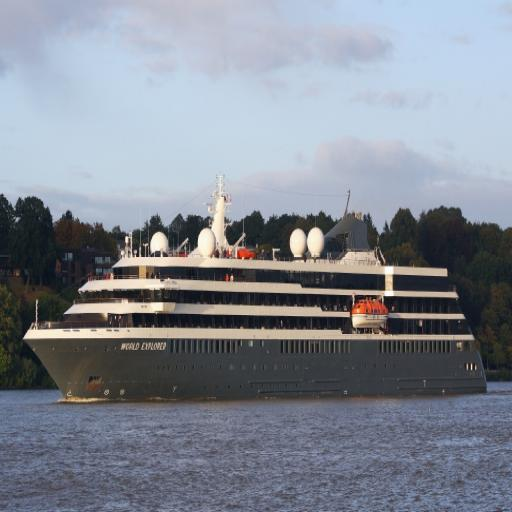cruises: (19, 172, 494, 405)
